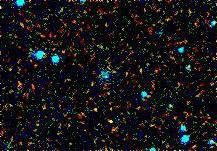star: (79, 98, 109, 128)
